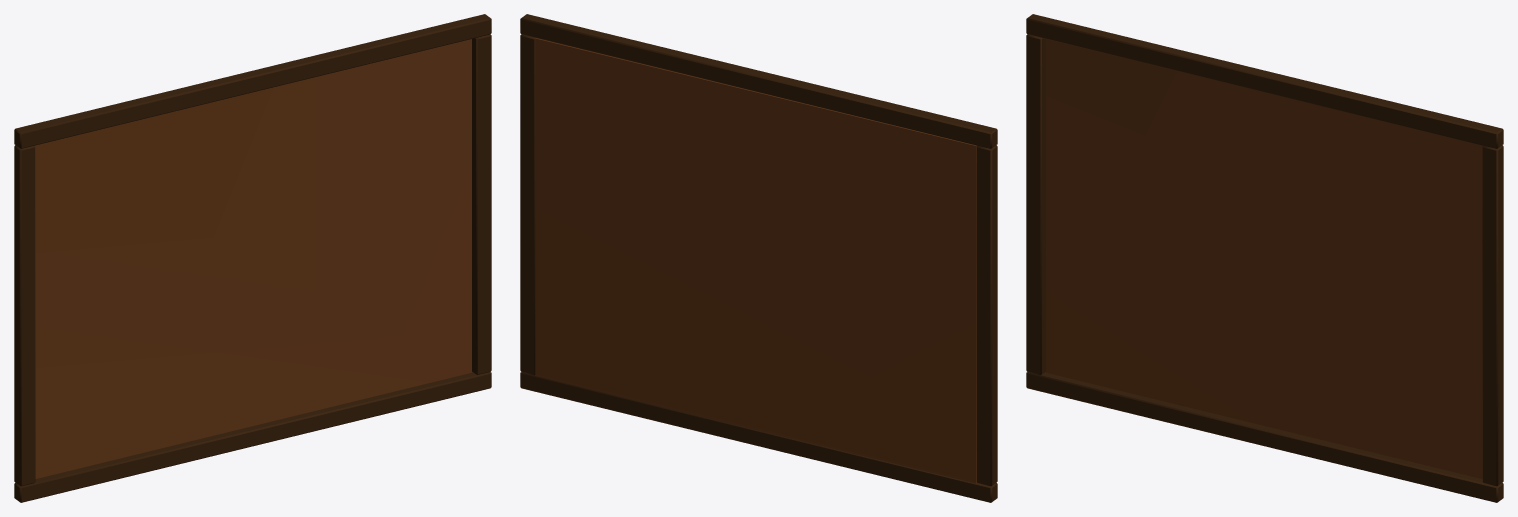
The model's file is school-notice-board.glb.
The picture shows the model from 3 angles, left to right: view 1: azimuth 30°, elevation 25°; view 2: azimuth 150°, elevation 25°; view 3: azimuth 330°, elevation 25°; orthographic projection.
Parts seen in each view (by area): view 1: cork__cork, frame__wood; view 2: cork__cork, frame__wood; view 3: cork__cork, frame__wood.
Part boxes in pixels (x1,y1,x2,y2): cork__cork: (34,39,471,478); frame__wood: (14,14,491,502); cork__cork: (535,38,977,483); frame__wood: (520,14,997,502); cork__cork: (1046,39,1483,478); frame__wood: (1026,14,1503,502).
Bounding box in the file's own units: 1.2 × 0.9 × 0.03.
